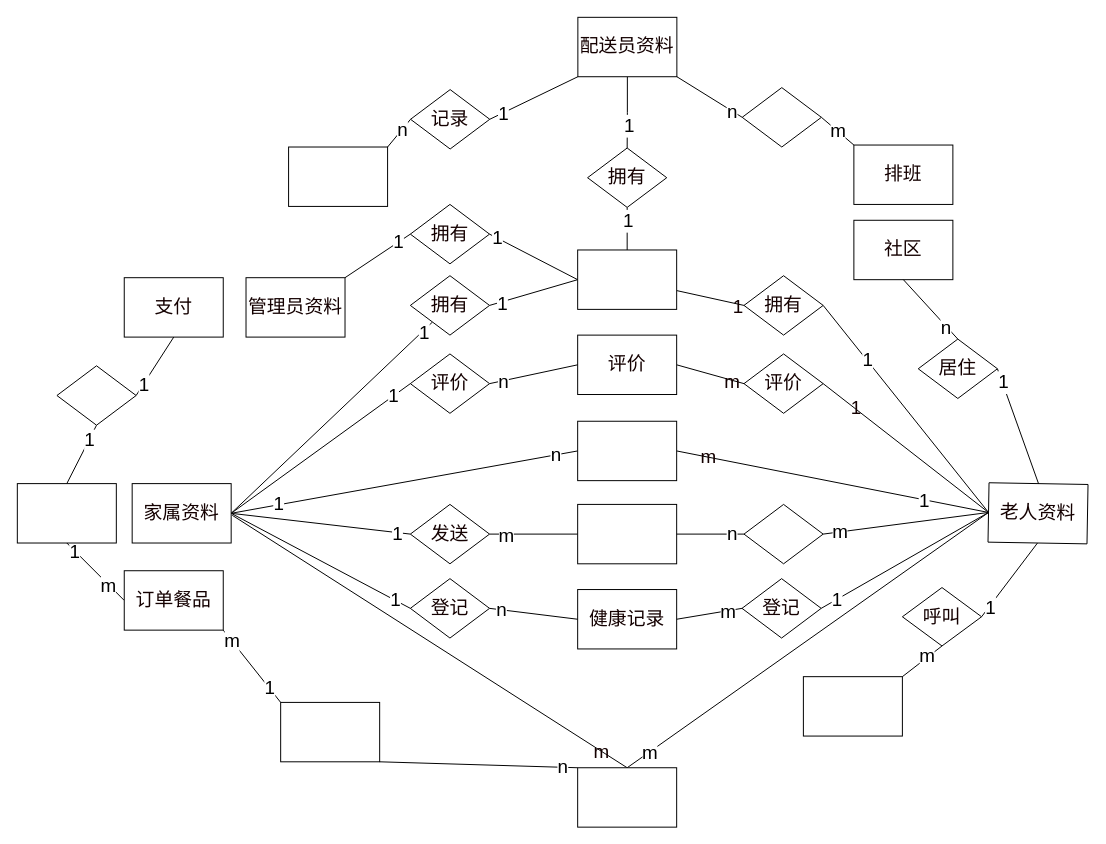
Image size: 1106x844. Some labels were removed from this diagram. The shapes that lost their labels are listed below. From the top down, each one's box as (x1, y1, x2, y2) in pixels, then its label:
(741, 87, 821, 147): 工作
(288, 146, 388, 206): 异常记录
(577, 249, 677, 309): 用户
(56, 365, 136, 425): 创建
(577, 420, 677, 481): 关系
(16, 483, 116, 543): 订单
(577, 503, 677, 564): 健康提醒
(743, 503, 823, 564): 接收
(802, 676, 902, 736): 紧急呼叫
(280, 701, 380, 762): 餐品
(577, 767, 677, 827): 收藏
